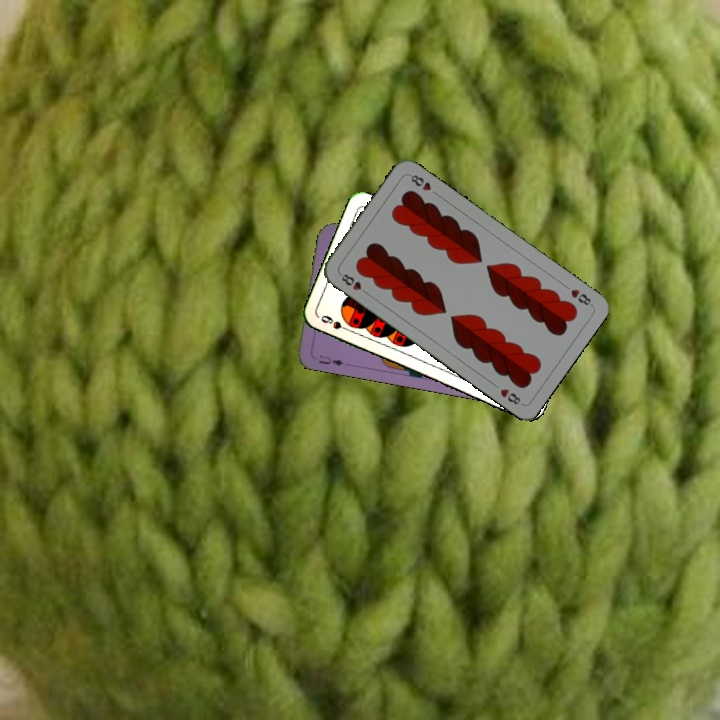EU: (315, 351, 346, 368)
H8: (336, 270, 371, 297), (567, 285, 595, 308)
S9: (316, 311, 355, 335)
